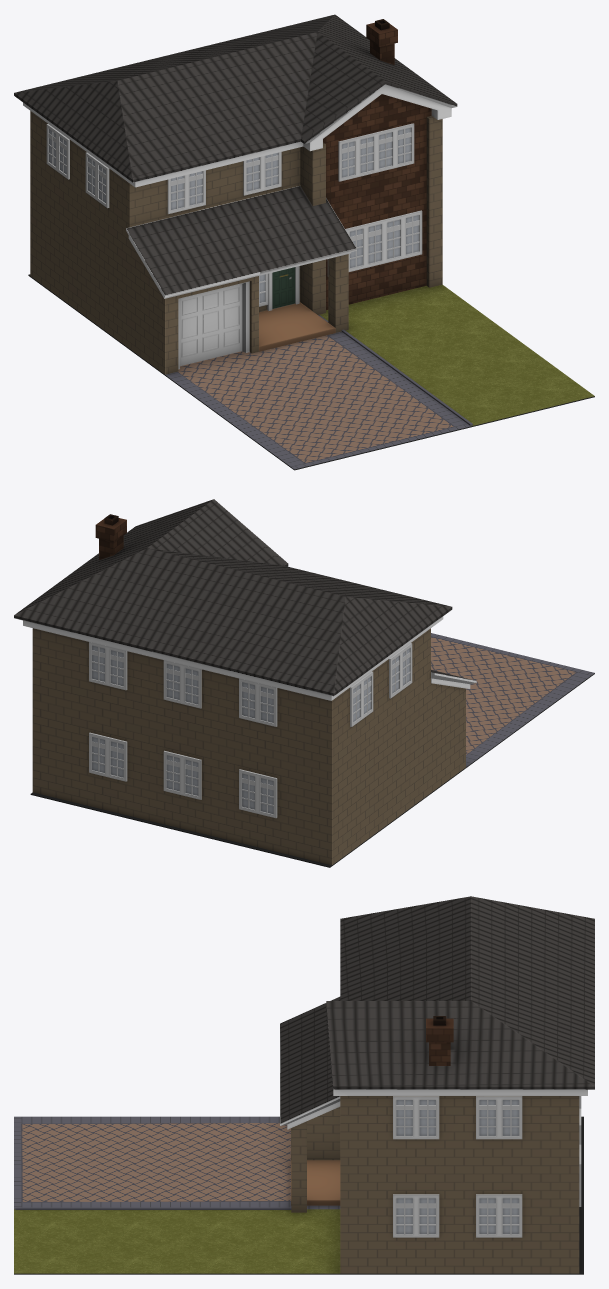
The model's file is HouseWithDriveway.gltf.
The picture shows the model from 3 angles, top to bottom: view 1: azimuth 30°, elevation 25°; view 2: azimuth 150°, elevation 25°; view 3: azimuth 270°, elevation 25°; orthographic projection. The views are drawn at different scales.
Visible parts, largest first — view 1: node-0; view 2: node-0; view 3: node-0.
Boxes of the visible parts, left/top/right/bottom form: node-0: left=14, top=14, right=594, bottom=470; node-0: left=14, top=499, right=594, bottom=867; node-0: left=14, top=896, right=594, bottom=1274.
Bounding box in the file's own units: 23.31 × 16.15 × 34.1.
Materials: 1 (1 with a texture image).
